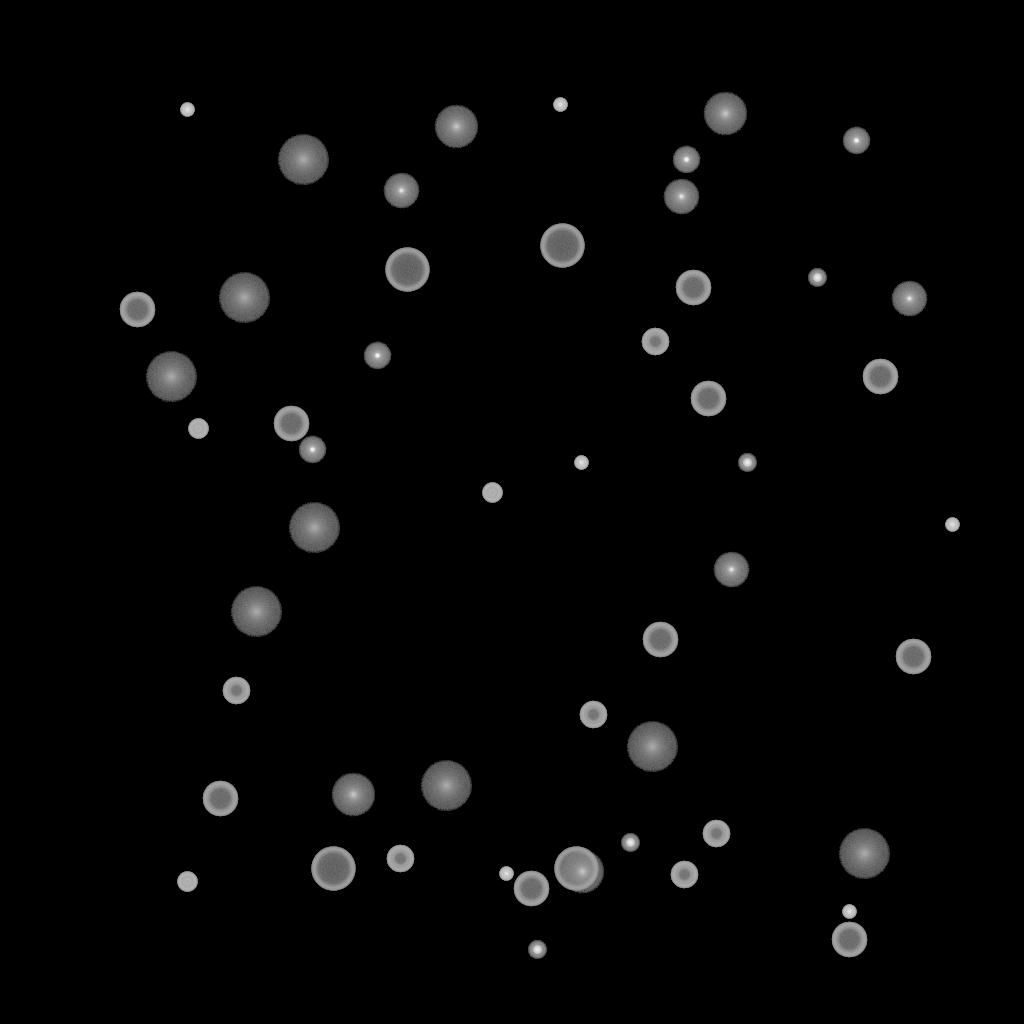depth:-10: (672, 146, 700, 174), (363, 342, 391, 370), (842, 127, 870, 155), (298, 436, 326, 464)
depth:-20: (528, 941, 546, 959), (621, 834, 639, 852), (808, 269, 826, 287), (738, 454, 756, 472)
depth:-30: (842, 905, 856, 919), (499, 867, 513, 881), (945, 518, 959, 532), (180, 103, 194, 117), (574, 456, 588, 470), (553, 98, 567, 112)
depth:-40: (482, 483, 502, 503), (188, 419, 208, 439), (177, 872, 197, 892)
depth:-50: (641, 328, 669, 356), (386, 845, 414, 873), (579, 701, 607, 729), (222, 677, 250, 705), (702, 820, 730, 848), (670, 861, 698, 889)
depth:-60: (642, 622, 678, 658), (513, 871, 549, 907), (119, 292, 155, 328), (831, 922, 867, 958), (862, 359, 898, 395), (895, 639, 931, 675), (690, 381, 726, 417), (675, 270, 711, 306), (202, 781, 238, 817), (273, 406, 309, 442)
depth:-70: (385, 248, 429, 292), (540, 224, 584, 268), (554, 847, 598, 891), (311, 847, 355, 891)
depth:0: (713, 552, 749, 588), (663, 179, 699, 215), (891, 281, 927, 317), (383, 173, 419, 209)
depth:10: (560, 850, 604, 894), (434, 105, 478, 149), (703, 92, 747, 136), (331, 773, 375, 817)
depth:20: (145, 352, 197, 402), (626, 722, 678, 772), (288, 503, 340, 553), (838, 829, 890, 879), (277, 135, 329, 185), (230, 587, 282, 637), (218, 273, 270, 323), (420, 761, 472, 811)
